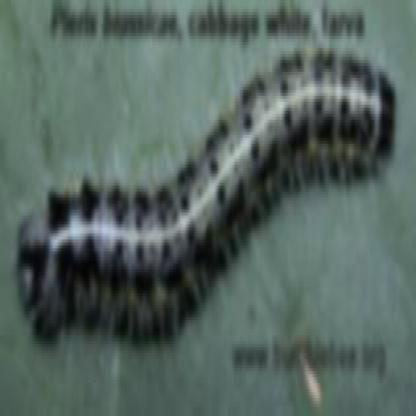pieris: (19, 42, 403, 342)
